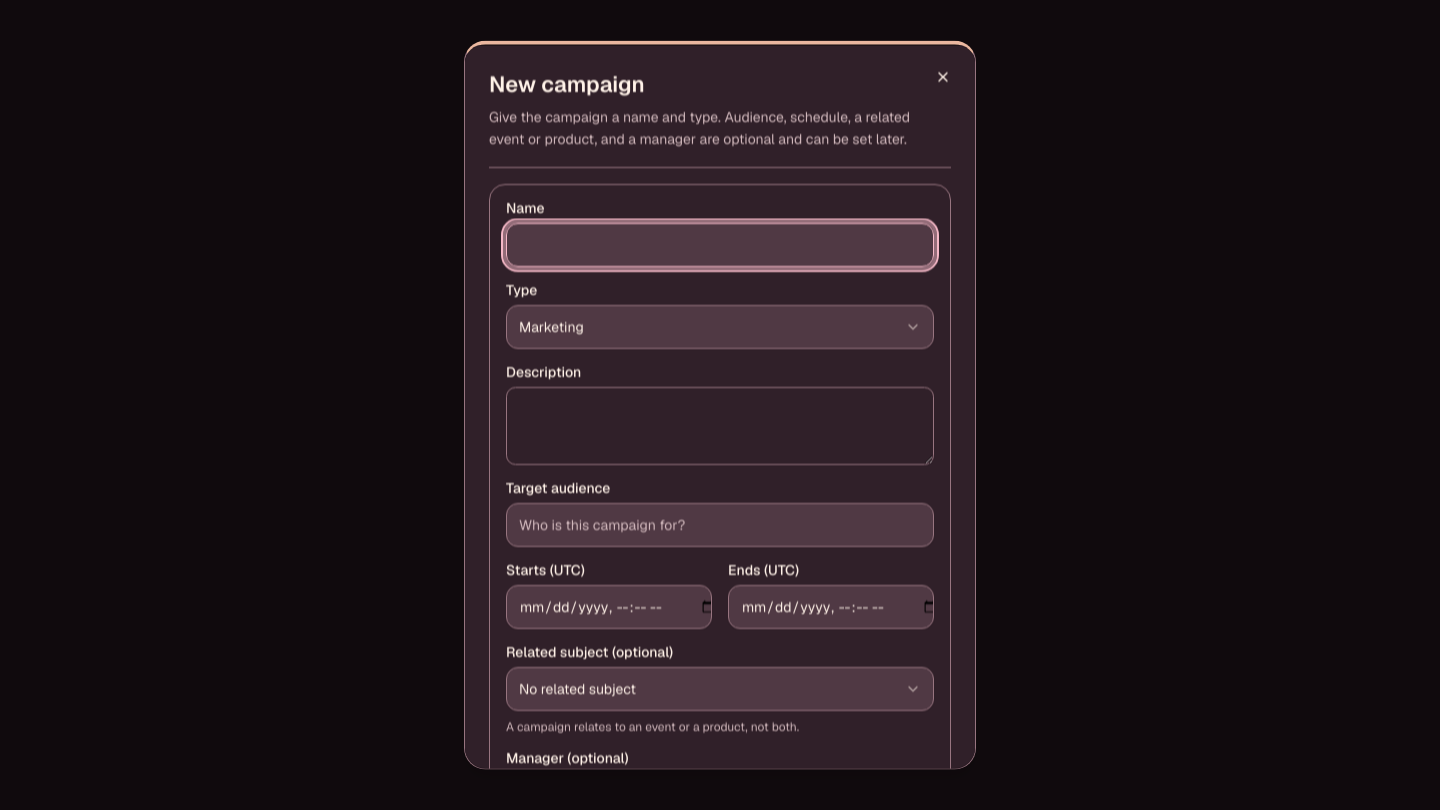
Test case: CreateCampaignDialog › shows a server-side schedule error on the end field
The width and height of the screenshot is (1440, 810).
In the field labelled "Name": (720, 244) [506, 222, 934, 266], type "Server Range"
(page scrolled)
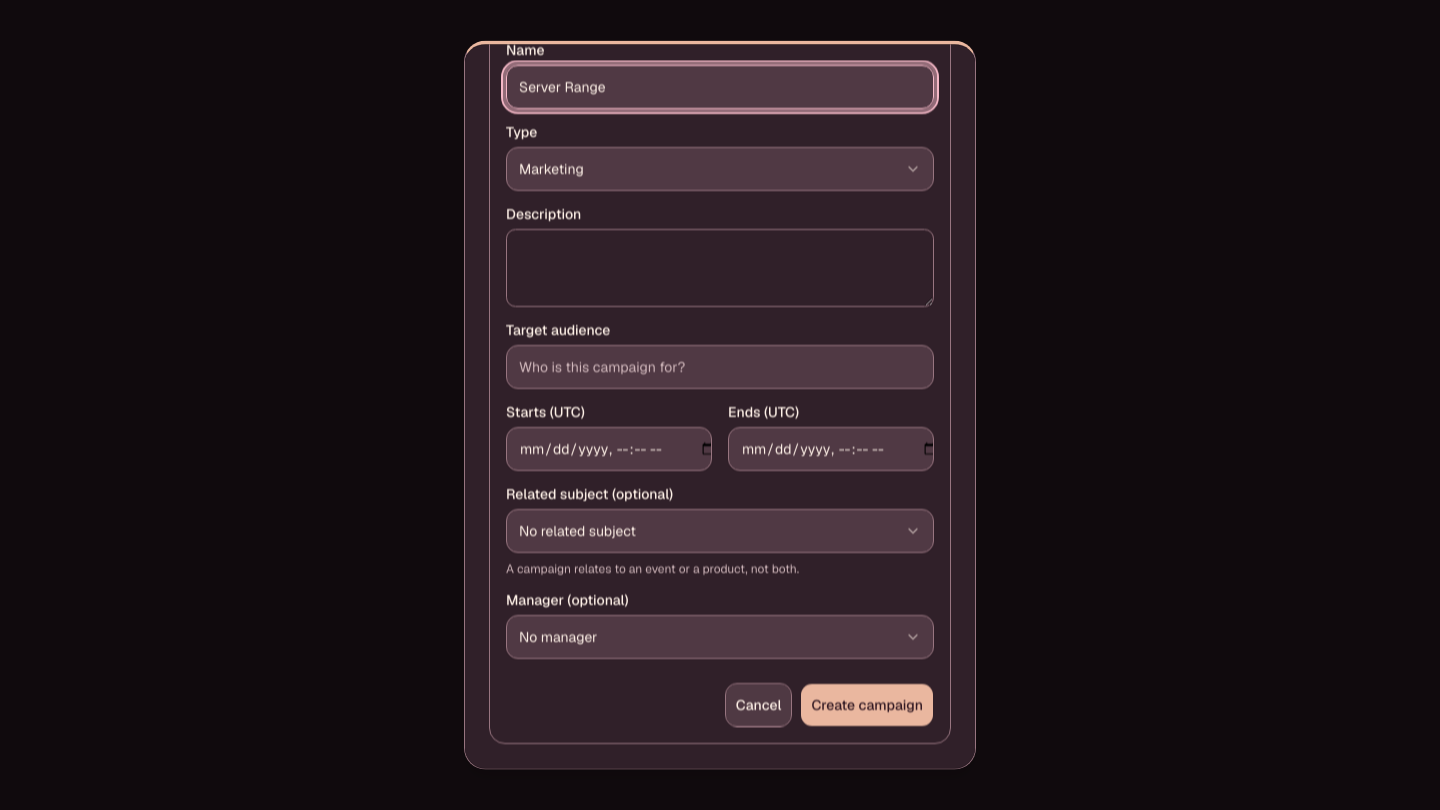
Click the button "Create campaign": (867, 705) [800, 683, 934, 727]
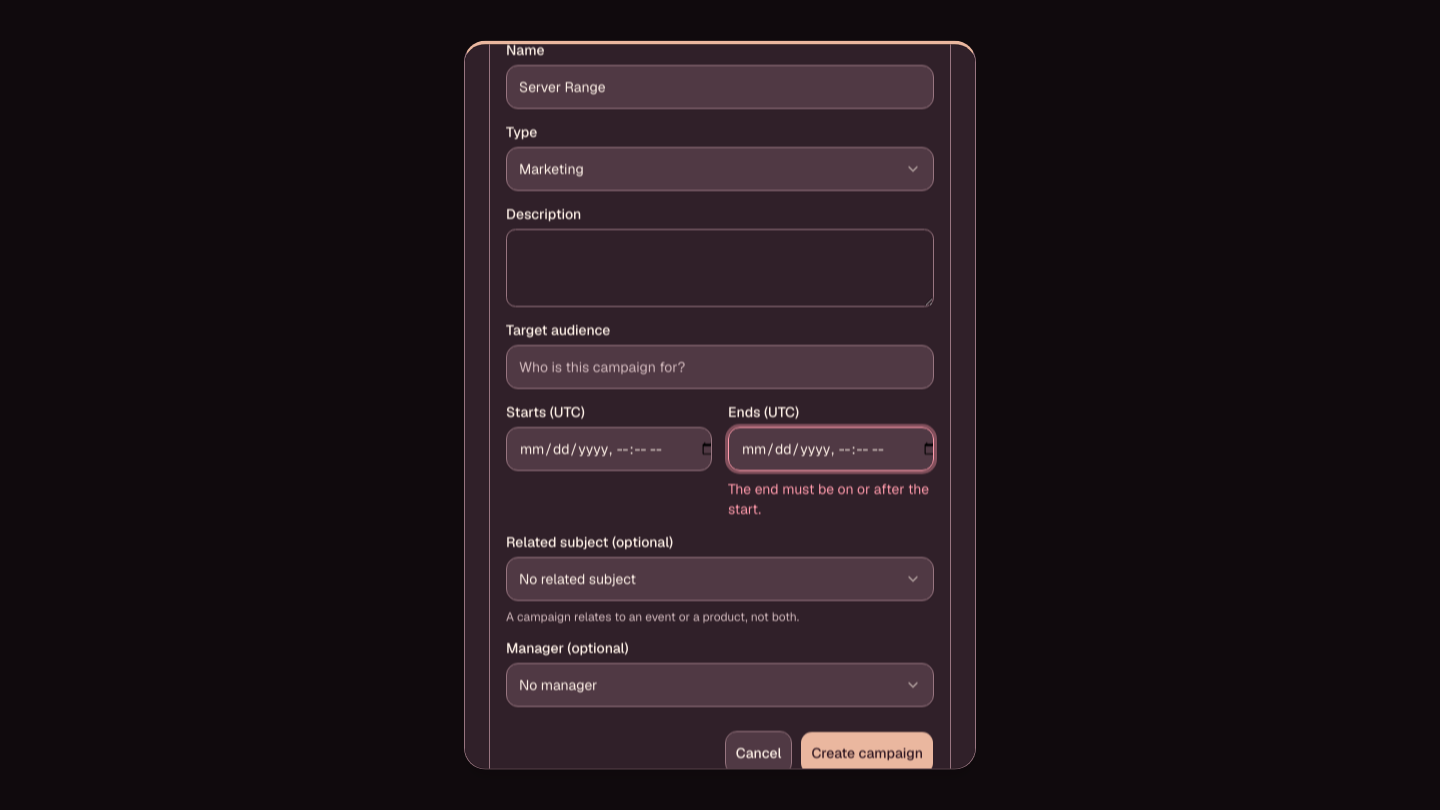
Check: the text "The end must be on or after the start." is shown, box [728, 479, 934, 519]
